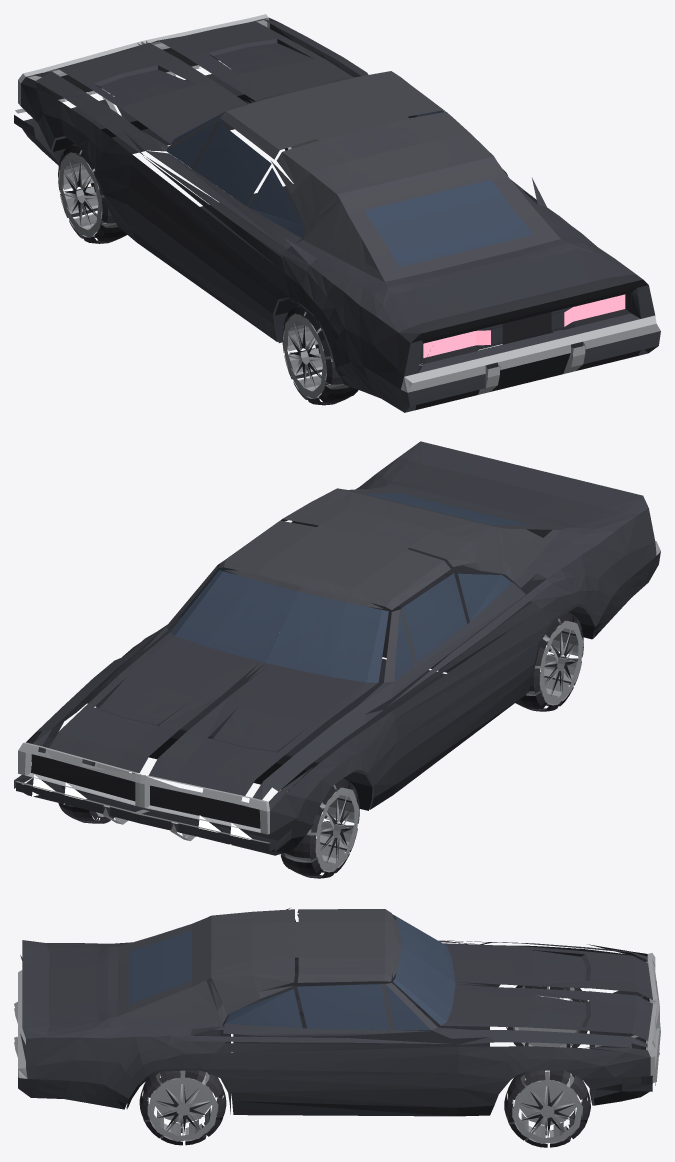
File: car_muscle_black.glb
3 views of the same model, one above another, from view 1: azimuth 30°, elevation 25°; view 2: azimuth 150°, elevation 25°; view 3: azimuth 270°, elevation 25° (orthographic). The views are drawn at different scales.
Visible parts, largest first — view 1: car_muscle_black; view 2: car_muscle_black; view 3: car_muscle_black.
Boxes of the visible parts, x1=… form: car_muscle_black: x1=14, y1=14, x2=660, y2=412; car_muscle_black: x1=14, y1=441, x2=660, y2=878; car_muscle_black: x1=14, y1=908, x2=660, y2=1147.
Bounding box in the file's own units: 2.05 × 1.42 × 5.2.
